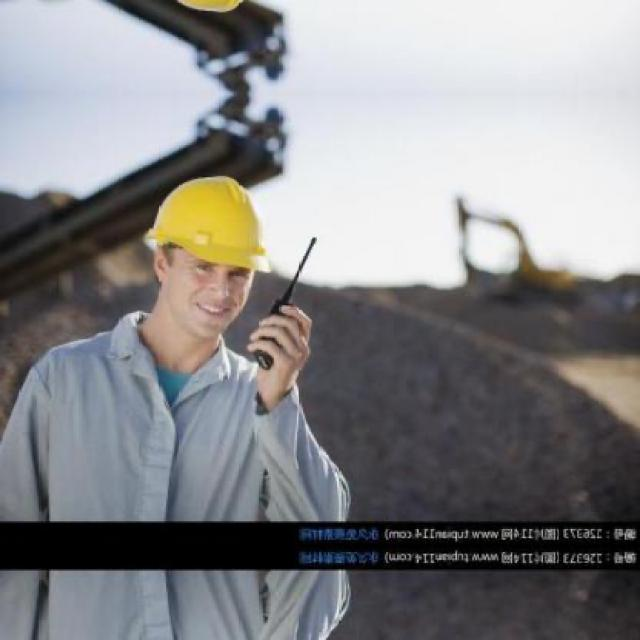helmet: (136, 151, 284, 359)
